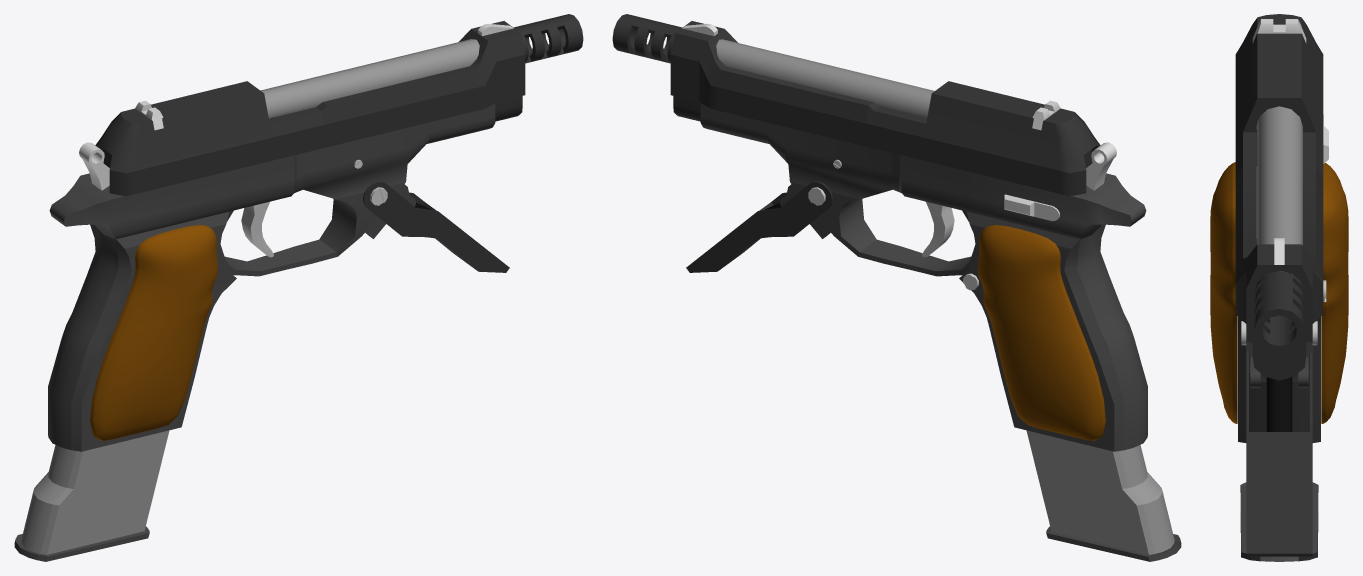
File: Baretta_93_R_Mesh.fbx
3 renders of one model, left to right at view 1: azimuth 30°, elevation 25°; view 2: azimuth 150°, elevation 25°; view 3: azimuth 270°, elevation 25°, orthographic. The views are drawn at different scales.
Parts seen in each view (by area): view 1: Baretta_93_R; view 2: Baretta_93_R; view 3: Baretta_93_R.
Part boxes in pixels (<box>): Baretta_93_R: <box>14,14,583,561</box>; Baretta_93_R: <box>612,14,1181,561</box>; Baretta_93_R: <box>1210,14,1348,561</box>.
Bounding box in the file's own units: 0.24 × 0.1728 × 0.0396.
